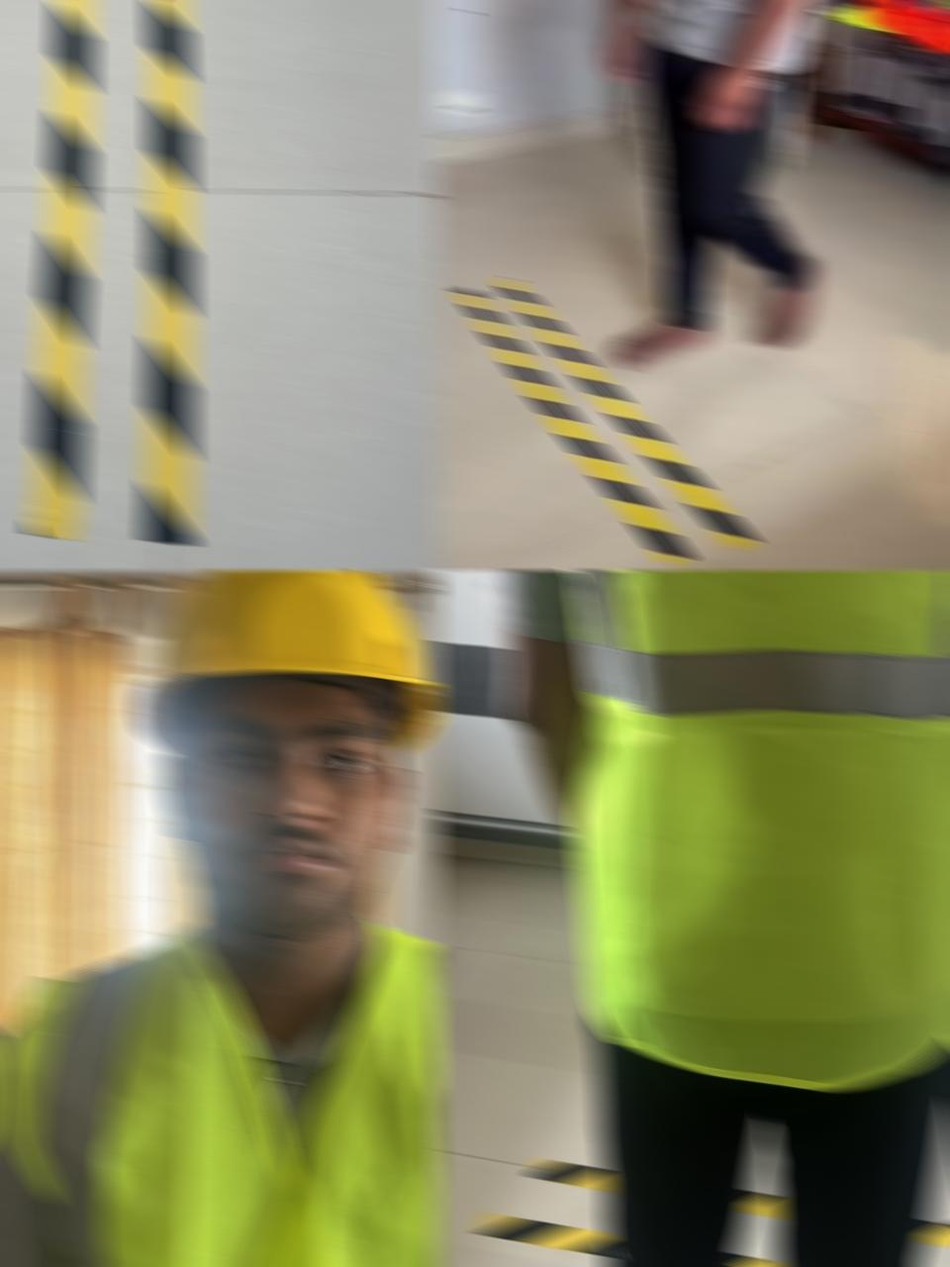BorderLine: (25, 0, 196, 546), (452, 274, 761, 566), (476, 1159, 950, 1267)
Helmet: (130, 570, 441, 753)
No_Vest: (638, 0, 856, 73)
Person: (480, 569, 950, 1267), (0, 569, 441, 1267), (595, 0, 855, 372)
Vest: (517, 569, 950, 1089), (1, 917, 441, 1267)
